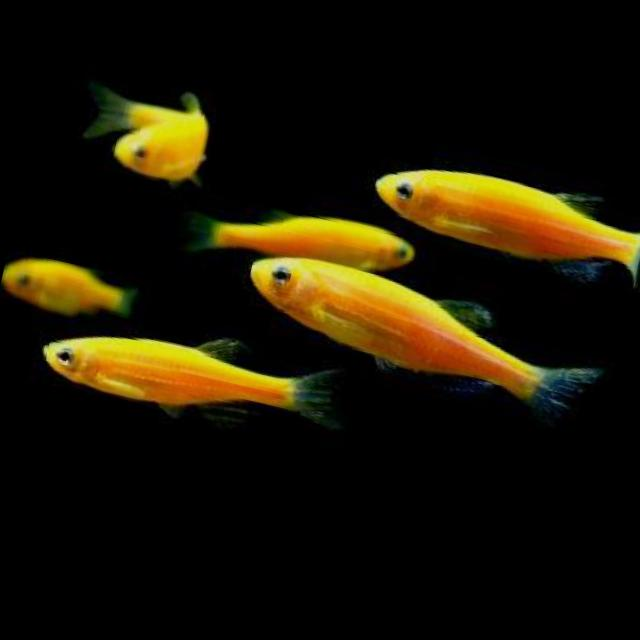ZebraFish: (227, 240, 613, 437), (22, 294, 352, 452), (364, 146, 640, 291)
